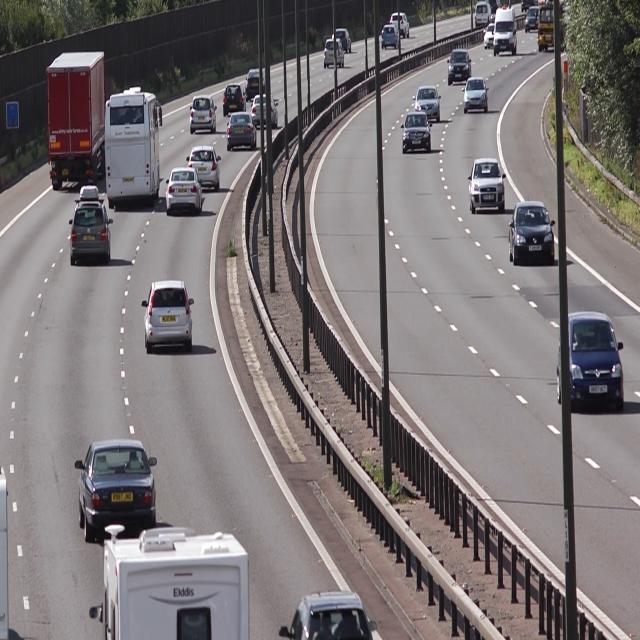Car: (76, 438, 162, 530), (46, 52, 104, 187), (557, 311, 626, 412), (106, 95, 162, 200), (144, 280, 195, 356), (69, 188, 114, 266), (508, 200, 556, 268), (469, 153, 506, 213), (166, 167, 203, 216), (190, 147, 222, 191), (495, 6, 520, 57), (226, 112, 257, 151), (403, 112, 432, 153), (416, 86, 444, 121), (190, 96, 218, 131), (463, 76, 489, 113), (221, 82, 247, 116), (448, 49, 472, 84), (245, 65, 268, 98)
